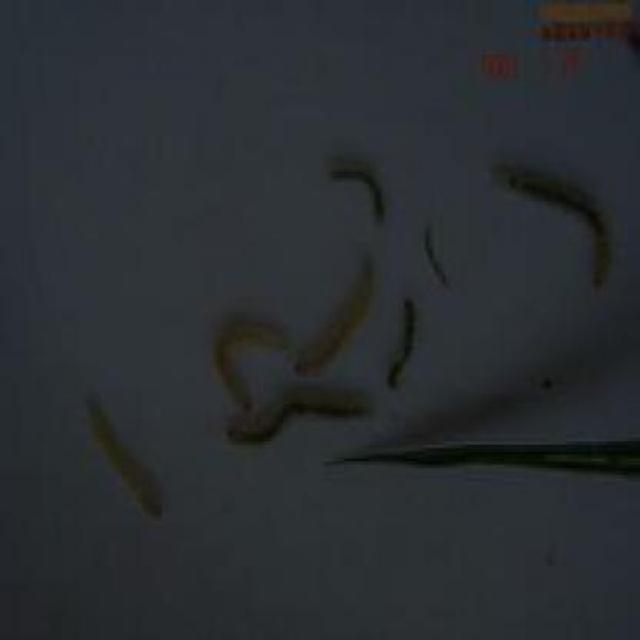leaf-folder: (482, 130, 628, 315), (208, 360, 382, 482), (70, 360, 178, 514), (288, 244, 383, 388), (184, 308, 293, 403), (317, 148, 414, 238), (378, 285, 428, 407), (418, 204, 464, 290)
